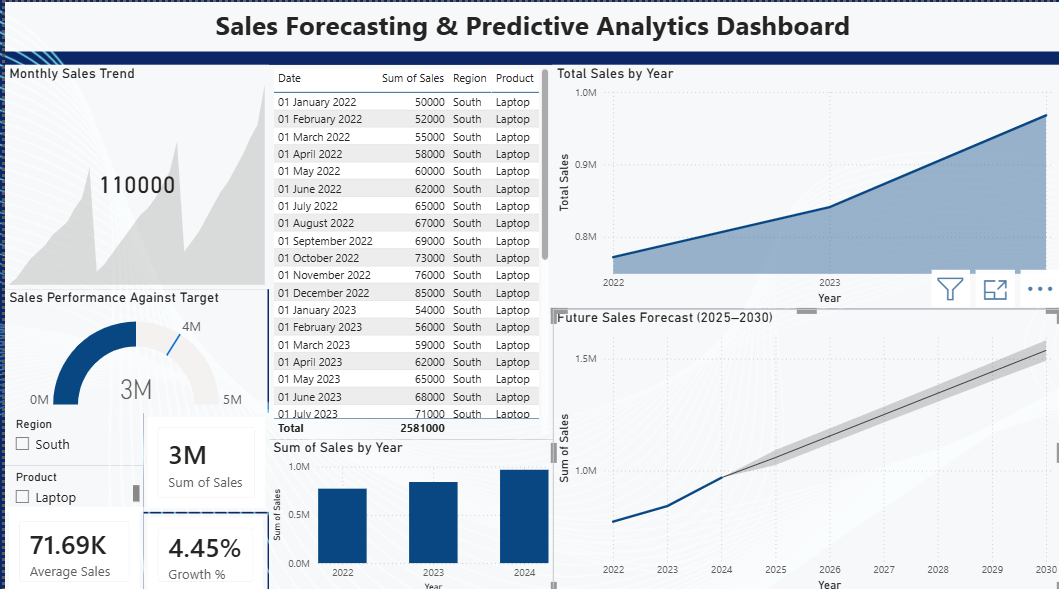

The dashboard page shown, as its layout file describes it:
{"tool":"powerbi","page":{"name":"Page 1","canvas":[1280,720],"ordinal":0},"visuals":[{"type":"cardVisual","fields":{"Data":["Sum(SalesData.Sales)"]},"box":[168,498,152,120],"z":0},{"type":"cardVisual","fields":{"Data":["SalesData.Average Sales"]},"box":[0,612,168,108],"z":1},{"type":"lineChart","title":"Future Sales Forecast (2025–2030)","fields":{"Category":["SalesData.Date.Variation.Date Hierarchy.Year"],"Y":["Sum(SalesData.Sales)"]},"box":[664,372,616,348],"z":2},{"type":"cardVisual","fields":{"Data":["SalesData.Growth %"]},"box":[168,620,150,100],"z":4},{"type":"slicer","fields":{"Values":["SalesData.Region"]},"box":[0,498,168,64],"z":5},{"type":"slicer","fields":{"Values":["SalesData.Product"]},"box":[0,562,168,56],"z":6},{"type":"columnChart","fields":{"Category":["SalesData.Date.Variation.Date Hierarchy.Year","SalesData.Date.Variation.Date Hierarchy.Quarter","SalesData.Date.Variation.Date Hierarchy.Month","SalesData.Date.Variation.Date Hierarchy.Day"],"Y":["Sum(SalesData.Sales)"]},"box":[320,530,344,190],"z":7},{"type":"textbox","box":[0,0,1280,60],"z":8},{"type":"gauge","title":"Sales Performance Against Target","fields":{"Y":["SalesData.Total Sales"],"TargetValue":["SalesData.Target Sales"]},"box":[0,348,318,150],"z":9},{"type":"kpi","title":"Monthly Sales Trend","fields":{"Indicator":["Sum(SalesData.Sales)"],"TrendLine":["SalesData.Date"]},"box":[0,76,320,272],"z":10},{"type":"tableEx","fields":{"Values":["SalesData.Date","Sum(SalesData.Sales)","SalesData.Region","SalesData.Product"]},"box":[320,76,344,454],"z":11},{"type":"areaChart","title":"Total Sales by Year","fields":{"Category":["SalesData.Date.Variation.Date Hierarchy.Year","SalesData.Date.Variation.Date Hierarchy.Quarter","SalesData.Date.Variation.Date Hierarchy.Month","SalesData.Date.Variation.Date Hierarchy.Day"],"Y":["SalesData.Total Sales"]},"box":[664,76,616,296],"z":14}]}

Visuals, with their boxes in screenshot pixels (x1, y1, x2, y2), scaled from the page's 1280x720 canvas onto the 1059x589 screenshot:
cardVisual - Sum(SalesData.Sales): <region>139, 407, 265, 506</region>
cardVisual - SalesData.Average Sales: <region>0, 501, 139, 588</region>
"Future Sales Forecast (2025–2030)" lineChart: <region>549, 304, 1058, 588</region>
cardVisual - SalesData.Growth %: <region>139, 507, 263, 588</region>
slicer - SalesData.Region: <region>0, 407, 139, 460</region>
slicer - SalesData.Product: <region>0, 460, 139, 506</region>
columnChart - SalesData.Date.Variation.Date Hierarchy.Year x SalesData.Date.Variation.Date Hierarchy.Quarter: <region>265, 434, 549, 588</region>
textbox: <region>0, 0, 1058, 49</region>
"Sales Performance Against Target" gauge: <region>0, 285, 263, 407</region>
"Monthly Sales Trend" kpi: <region>0, 62, 265, 285</region>
tableEx - SalesData.Date x Sum(SalesData.Sales): <region>265, 62, 549, 434</region>
"Total Sales by Year" areaChart: <region>549, 62, 1058, 304</region>
